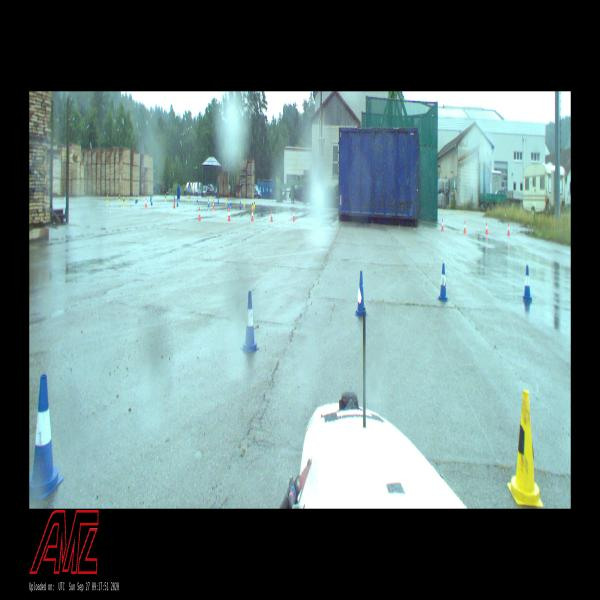blue_cone: (30, 374, 58, 496), (243, 291, 257, 351), (356, 271, 366, 316), (438, 264, 447, 301), (523, 266, 532, 302), (135, 195, 137, 203), (151, 197, 153, 205), (228, 199, 230, 207), (230, 198, 232, 206), (196, 195, 198, 202), (217, 197, 219, 203), (208, 199, 209, 207), (137, 194, 138, 202), (177, 198, 178, 206), (240, 202, 241, 210), (150, 195, 151, 202)
orange_cone: (198, 207, 201, 220), (251, 209, 254, 221), (441, 219, 444, 231), (270, 210, 273, 222), (507, 224, 510, 235), (464, 221, 466, 233), (486, 223, 488, 234), (228, 209, 230, 220), (145, 198, 147, 208), (173, 200, 175, 208), (213, 200, 214, 210), (293, 210, 294, 220)
yellow_cone: (510, 391, 540, 504), (123, 196, 125, 205), (210, 196, 212, 204), (225, 196, 227, 204), (165, 194, 167, 201), (188, 195, 190, 202), (243, 198, 245, 205), (107, 194, 108, 203), (119, 194, 120, 202), (254, 200, 255, 208), (252, 201, 253, 209), (139, 195, 140, 202)
